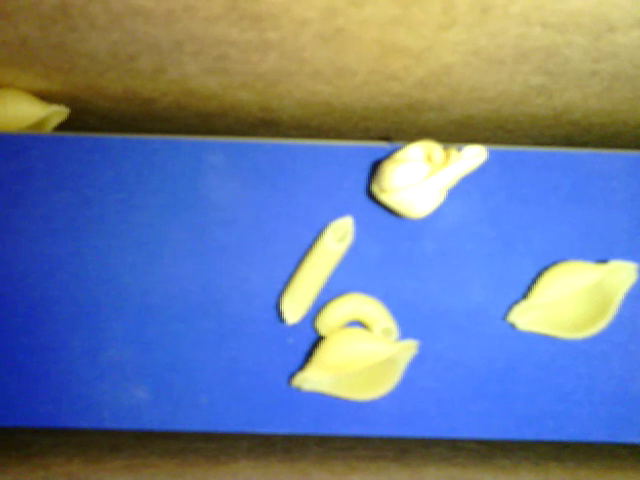elbow: (311, 285, 400, 340)
penne: (276, 213, 356, 326)
shell: (503, 253, 639, 339), (294, 330, 422, 398), (1, 83, 74, 131)
tortellini: (365, 132, 487, 219)
